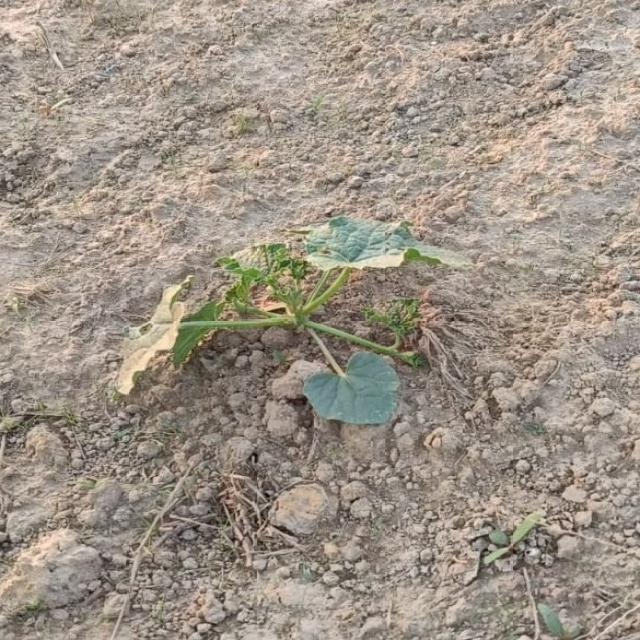plant: (118, 216, 472, 424)
